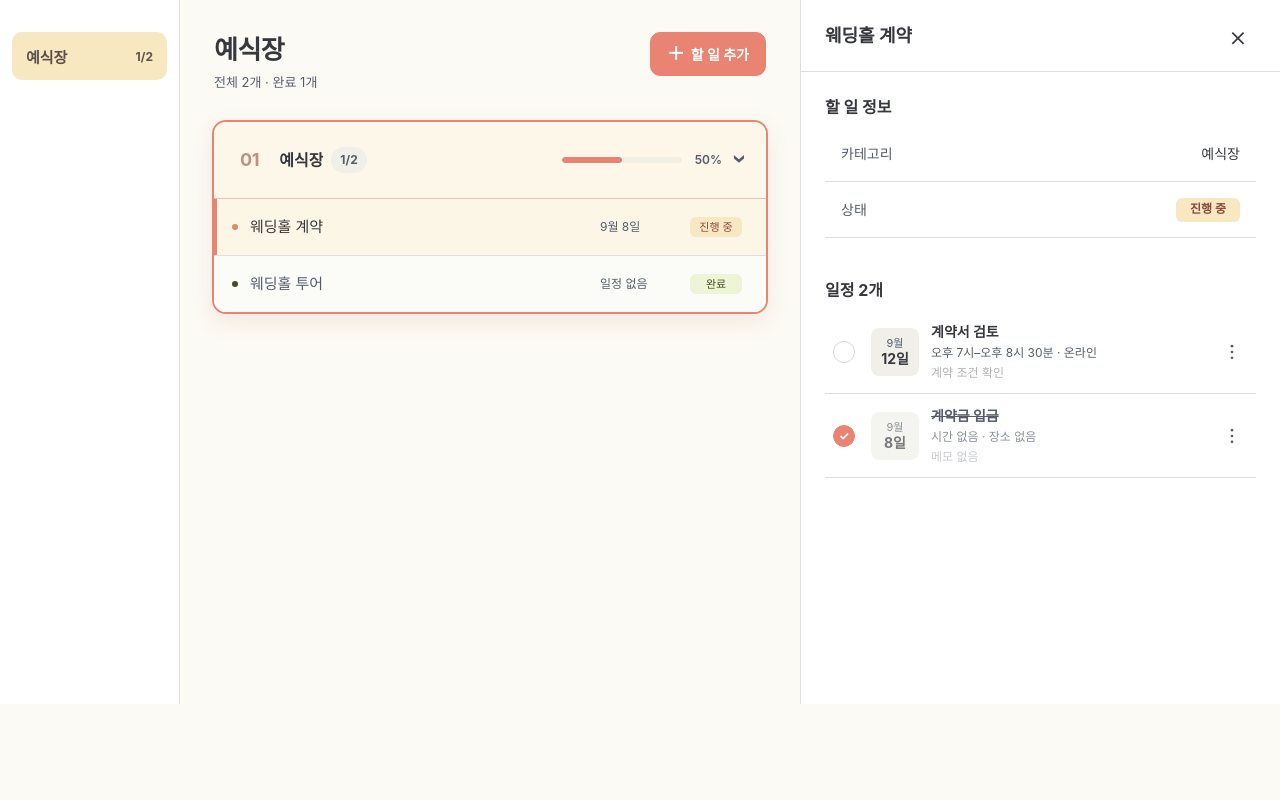
Test: Checklist 웹 상세 패널 › 수정 화면에 기존 값을 채우고 취소하면 일정 메뉴 버튼으로 초점을 복원한다
The width and height of the screenshot is (1280, 800).
Click the button named "계약서 검토 일정 더보기".
click(1232, 352)  # box top-left (1216, 336), bottom-right (1248, 368)
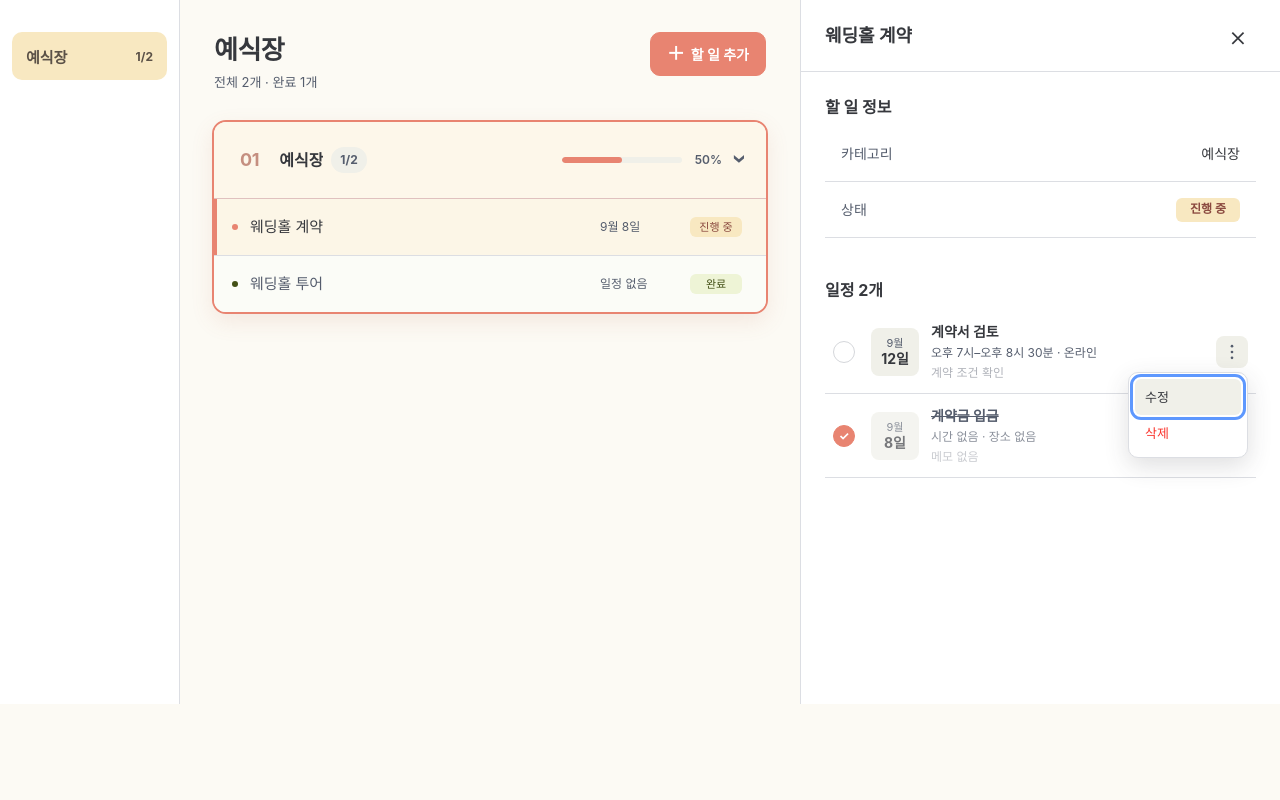
Click the menu item "수정".
click(1188, 397)  # box top-left (1135, 379), bottom-right (1241, 415)
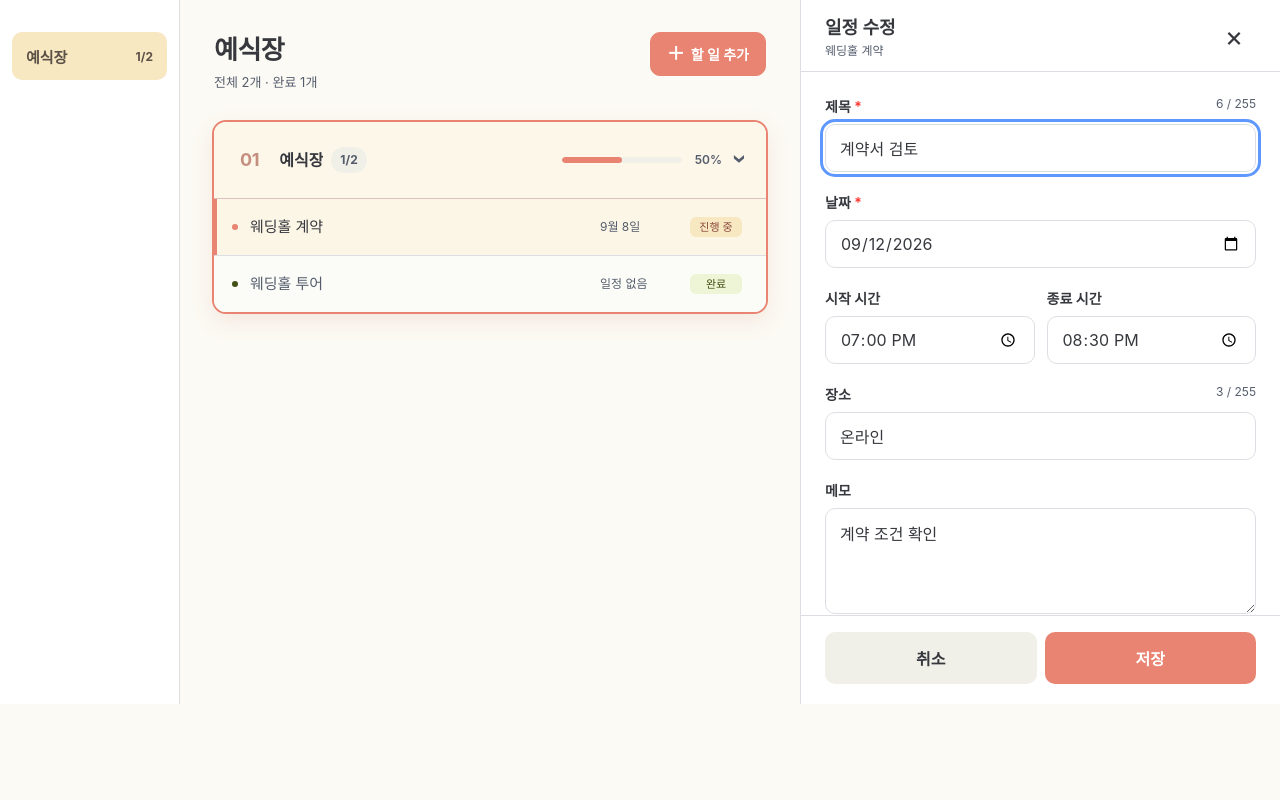
expect the field labelled "제목 *" holds "계약서 검토": met, box top-left (825, 124), bottom-right (1256, 172)
expect the date field labelled "날짜 *" holds "2026-09-12": met, box top-left (825, 220), bottom-right (1256, 268)
expect the time field labelled "시작 시간" holds "19:00": met, box top-left (825, 316), bottom-right (1034, 364)
Click the button "취소".
click(931, 658)  # box top-left (825, 632), bottom-right (1036, 684)
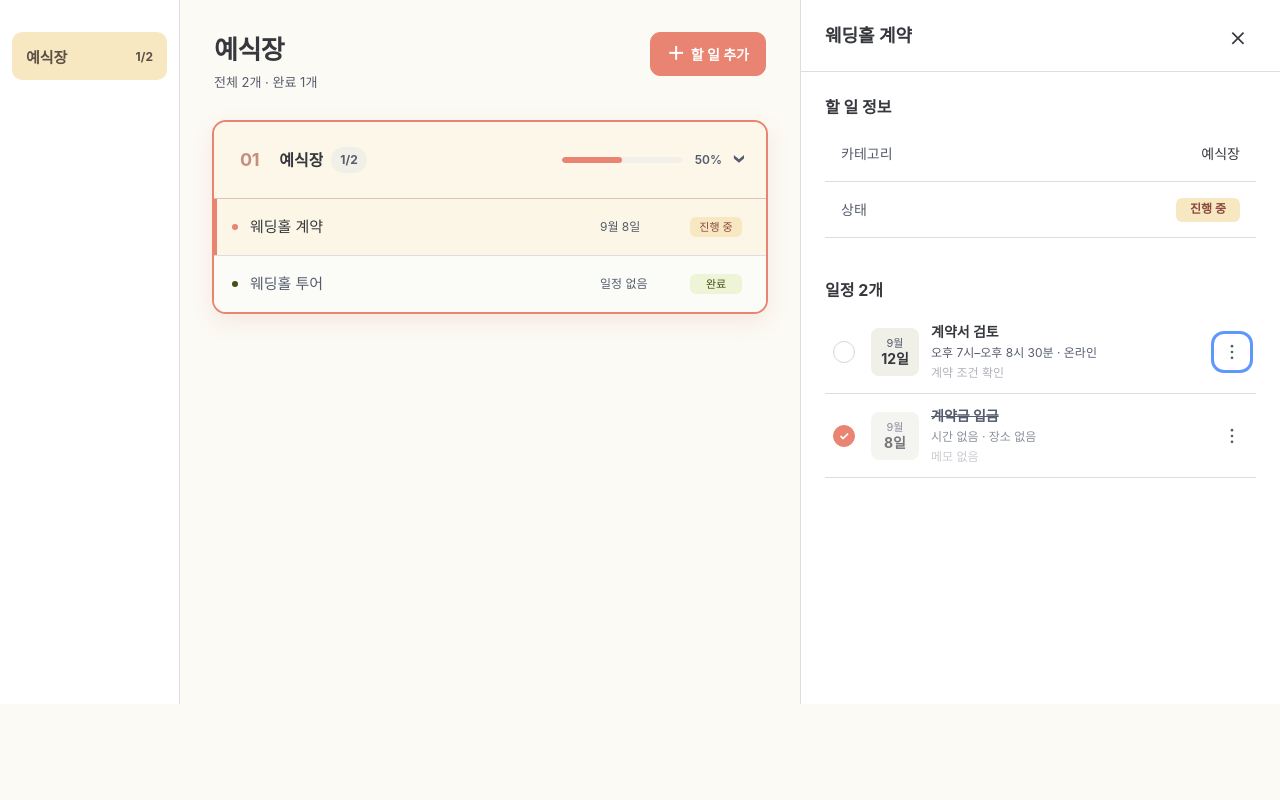
expect the heading "일정 수정" is gone: met
